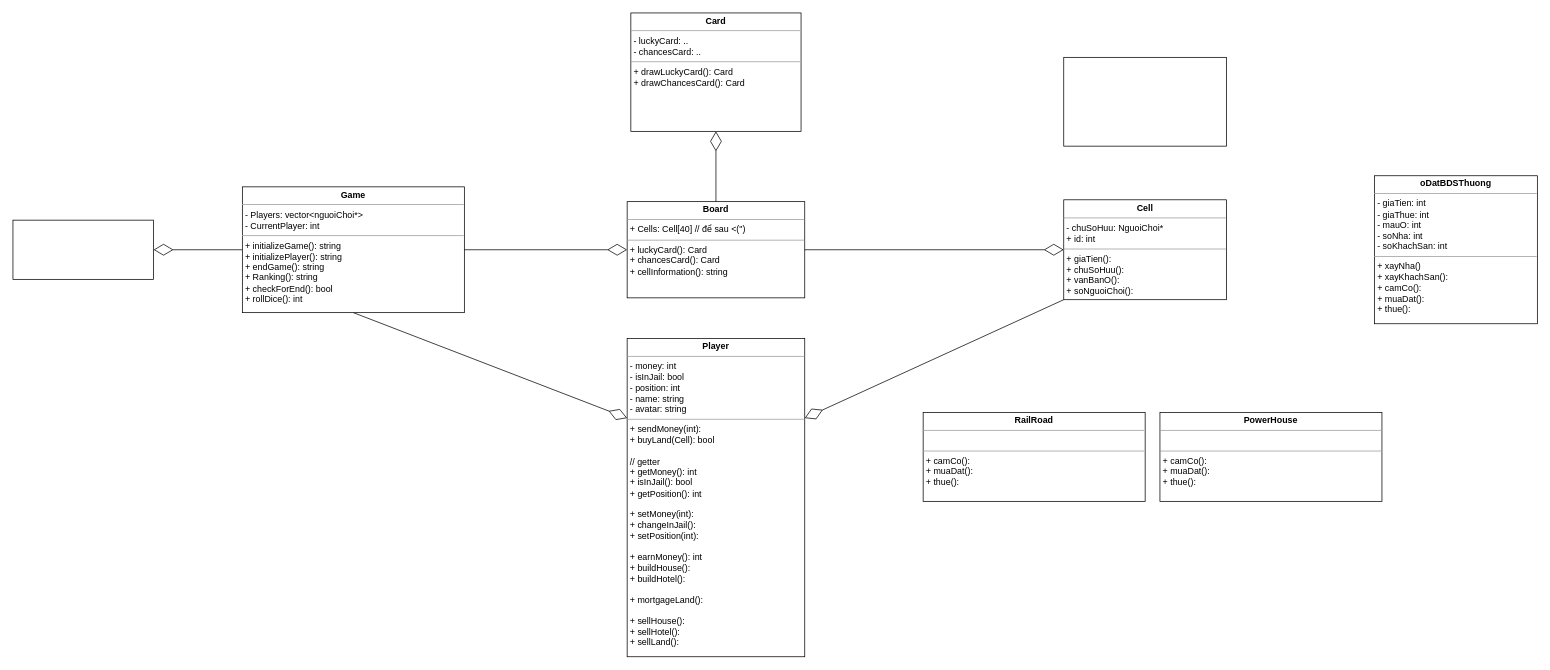
Image size: 1550x670. Some labels were removed from this diagram. Here are the shapes that lost their labels. From the top down, the box of each, then its label:
(1063, 57, 1227, 146): nhaMayNuoc + camCo(): + muaDat(): + thue():
(12, 219, 154, 279): Dice + Roll(): int
